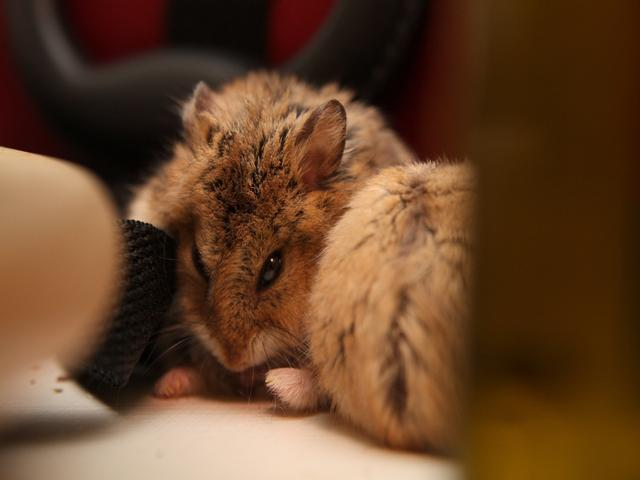mouse: (88, 74, 444, 435)
